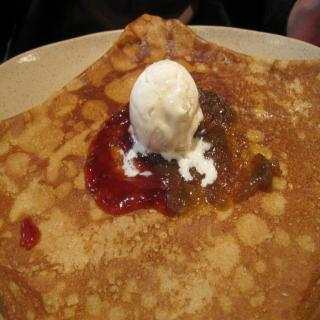Pancake: (0, 14, 320, 320)
